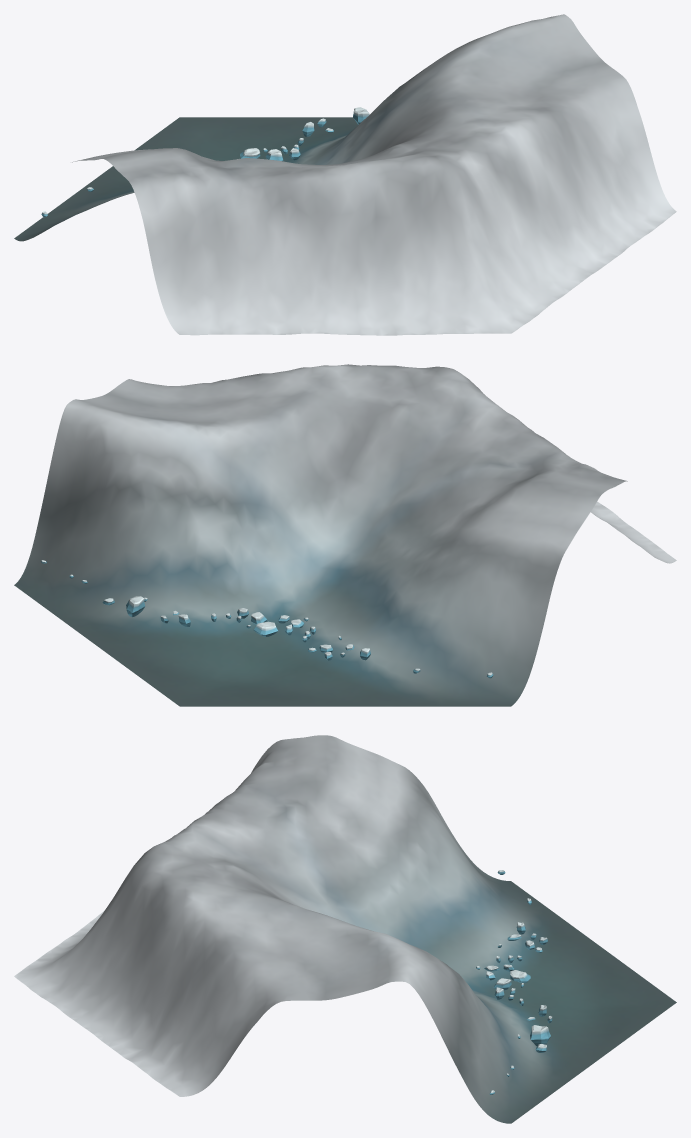
Rendered from costa_+04_-11.glb.
The picture shows the model from 3 angles, top to bottom: view 1: azimuth 30°, elevation 25°; view 2: azimuth 150°, elevation 25°; view 3: azimuth 270°, elevation 25°; orthographic projection.
Visible parts, largest first — view 1: terrain, Formações costeiras; view 2: terrain, Formações costeiras; view 3: terrain, Formações costeiras.
Boxes of the visible parts, x1=… form: terrain: x1=14, y1=14, x2=676, y2=335; Formações costeiras: x1=41, y1=107, x2=369, y2=217; terrain: x1=14, y1=364, x2=676, y2=706; Formações costeiras: x1=41, y1=560, x2=493, y2=678; terrain: x1=14, y1=735, x2=676, y2=1123; Formações costeiras: x1=476, y1=870, x2=552, y2=1094.
Size of the model in its own units: 4330 by 1278 by 5000.
Materials: 1 (1 with a texture image).
